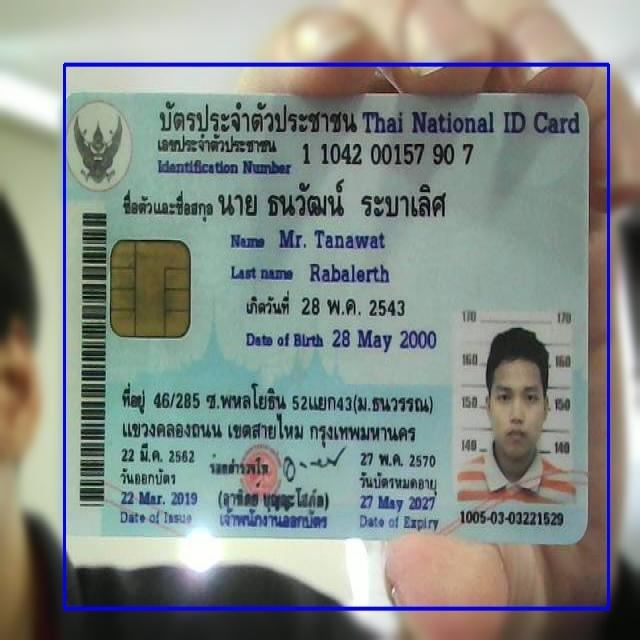Address_th: (118, 376, 450, 450)
Date_of_Birth: (329, 322, 439, 355)
Date_of_Expiry: (356, 489, 440, 515)
Date_of_Issue: (118, 486, 199, 509)
First_Name: (275, 225, 393, 254)
ID_Number: (298, 136, 478, 171)
Image: (456, 310, 572, 506)
Last_Name: (304, 258, 398, 289)
Thai_Name: (216, 175, 452, 228)
